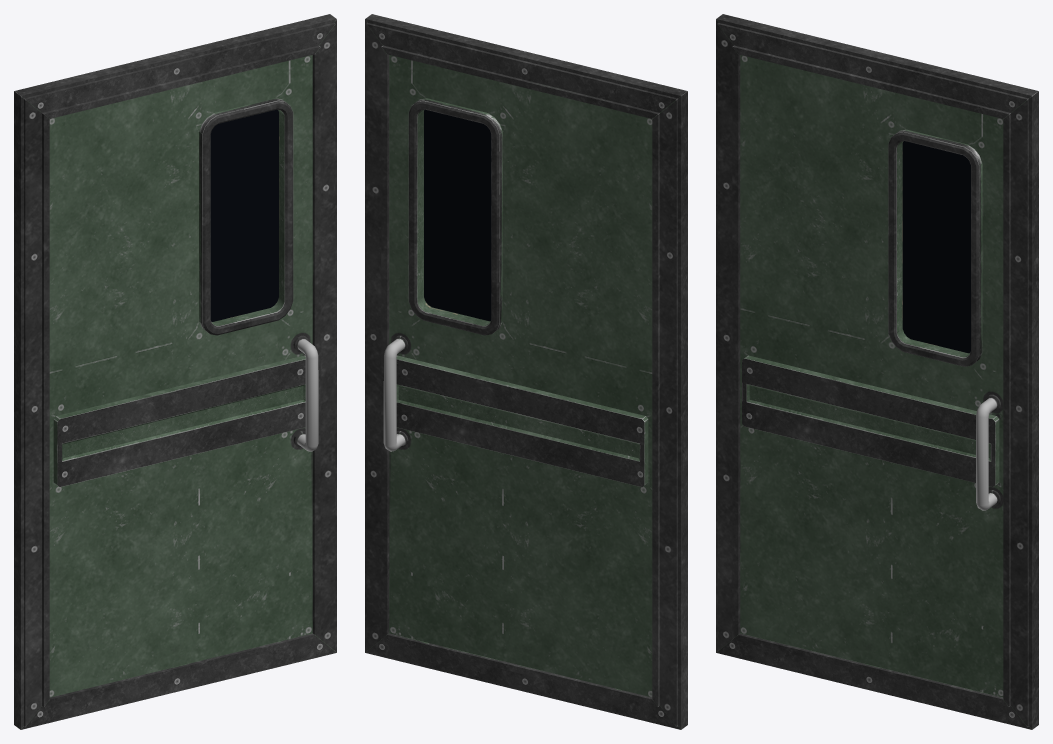
The model's file is metal_door.glb.
3 views of the same model, side by side, from view 1: azimuth 30°, elevation 25°; view 2: azimuth 150°, elevation 25°; view 3: azimuth 330°, elevation 25° (orthographic).
Parts seen in each view (by area): view 1: Dobledoor_model1; view 2: Dobledoor_model1; view 3: Dobledoor_model1.
Part boxes in pixels (x1,y1,x2,y2): Dobledoor_model1: (14, 14, 336, 729); Dobledoor_model1: (365, 14, 687, 729); Dobledoor_model1: (716, 14, 1038, 729).
Bounding box in the file's own units: 1.1 × 2.1 × 0.227.
2 materials, 1 textured.
